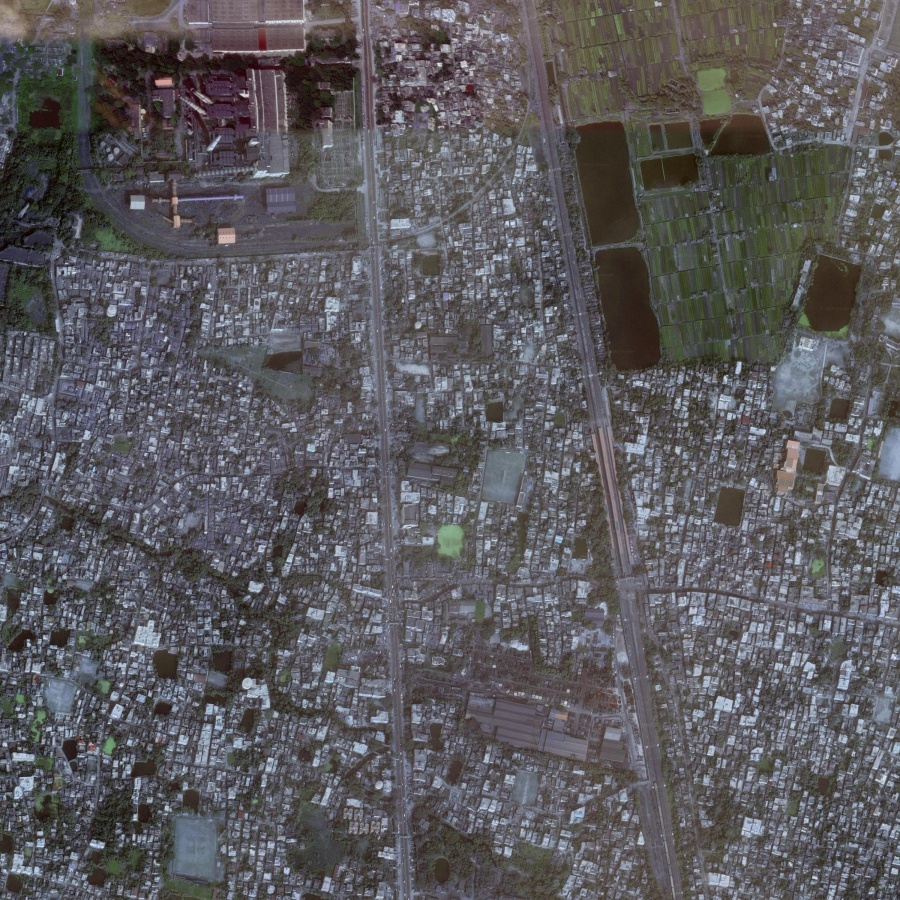PowerPlant: (84, 4, 329, 243)
